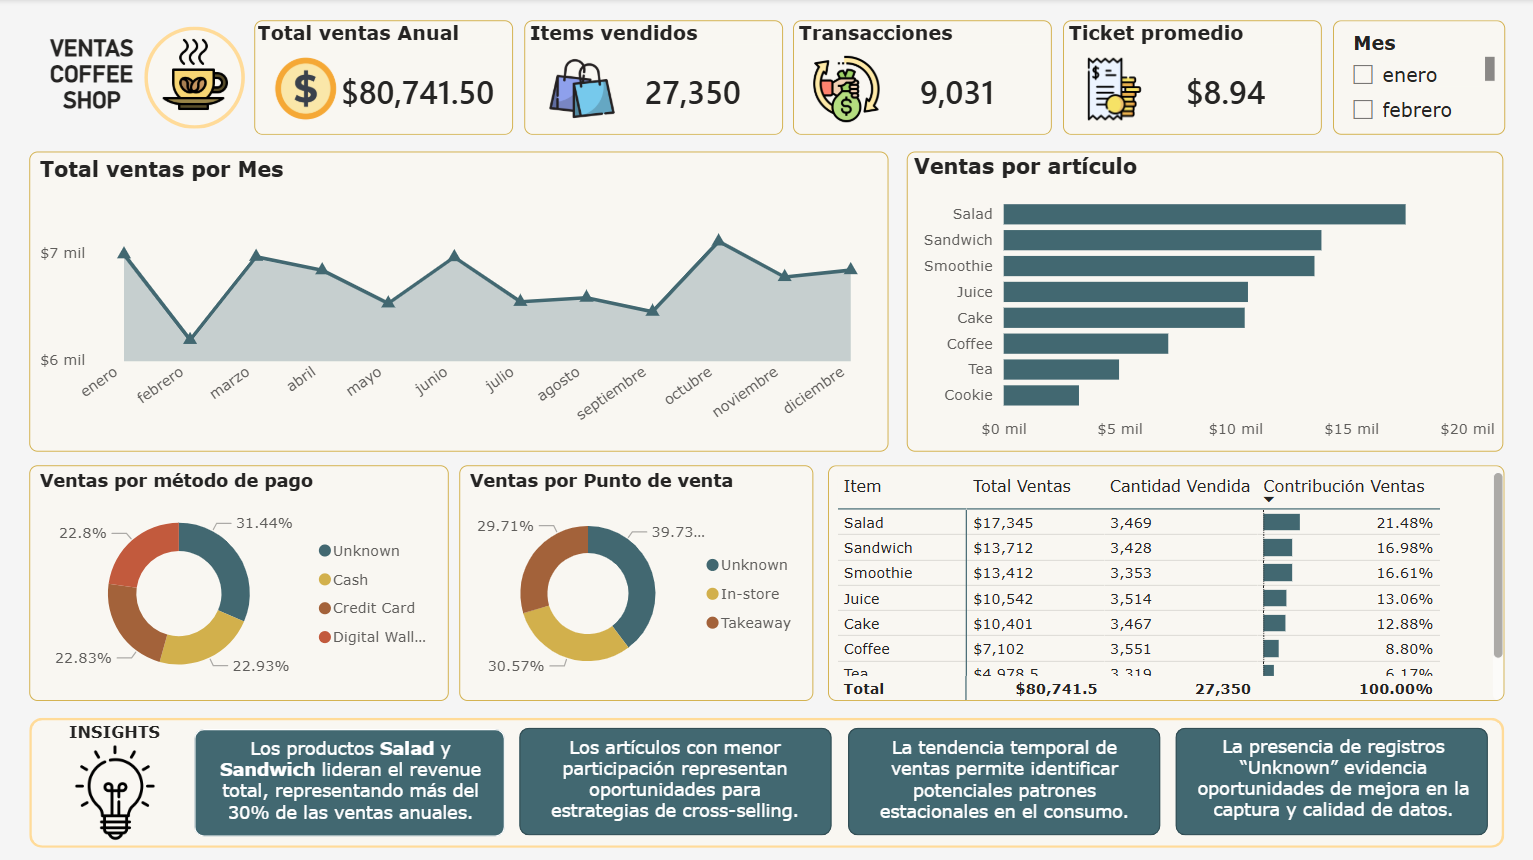

This screenshot's page, from the dashboard's own definition file:
{"tool":"powerbi","page":{"name":"Página 1","canvas":[1280,720],"ordinal":0},"visuals":[{"type":"shape","box":[26,597.3,1226.3,108.2],"z":0},{"type":"donutChart","title":"Ventas por método de pago","fields":{"Y":["DAX.Total ventas"],"Category":["dirty_cafe_sales.Payment Method"]},"box":[26,388.1,349.1,196.2],"z":1000},{"type":"pivotTable","fields":{"Values":["DAX.Total ventas","DAX.Cantidaditems","DAX.ContribuciónVentas"],"Rows":["dirty_cafe_sales.Item"]},"box":[689.6,388.1,562.7,196.2],"z":2000},{"type":"donutChart","title":"Ventas por Punto de venta","fields":{"Category":["dirty_cafe_sales.Location"],"Y":["DAX.Total ventas"]},"box":[383.8,388.1,294.3,196.2],"z":3000},{"type":"areaChart","fields":{"Category":["Dim_Calendar DAX.Mes"],"Y":["DAX.Total ventas"]},"box":[26,127,714.2,249.6],"z":4000},{"type":"slicer","fields":{"Values":["Dim_Calendar DAX.Mes"]},"box":[1109.5,17.3,142.8,95.2],"z":5000},{"type":"clusteredBarChart","title":"Ventas por artículo","fields":{"Y":["DAX.Total ventas"],"Category":["dirty_cafe_sales.Item"]},"box":[756,127,496.3,249.6],"z":6000},{"type":"cardVisual","title":"Total ventas Anual","fields":{"Data":["DAX.Total ventas"]},"box":[213.5,17.3,215,95.2],"z":7000},{"type":"cardVisual","title":"Ticket promedio","fields":{"Data":["DAX.TicketPromedio"]},"box":[885.9,17.3,215,95.2],"z":8000},{"type":"cardVisual","title":"Items vendidos","fields":{"Data":["DAX.CantidadNoUnknown"]},"box":[437.2,17.3,215,95.2],"z":9000},{"type":"cardVisual","title":"Transacciones ","fields":{"Data":["DAX.Transacciones"]},"box":[660.8,17.3,215,95.2],"z":10000},{"type":"shape","box":[163,607.4,258.3,89.5],"z":11000},{"type":"textbox","box":[170.2,614.6,245.3,96.7],"z":12000},{"type":"shape","box":[706.5,606,259.7,89.5],"z":13000},{"type":"textbox","box":[711.9,597.3,249.6,105.3],"z":14000},{"type":"shape","box":[433.8,606,259.7,89.5],"z":15000},{"type":"textbox","box":[443.9,613.2,238.1,93.8],"z":16000},{"type":"shape","box":[979.2,606,259.7,89.5],"z":17000},{"type":"textbox","box":[987.9,611.7,243.8,93.8],"z":18000},{"type":"image","box":[39,618.9,118.3,80.8],"z":19000},{"type":"textbox","box":[33.2,600.2,127,23.1],"z":20000},{"type":"shape","box":[121.2,22.7,83.7,85.1],"z":20500},{"type":"image","box":[131.3,24.2,63.5,77.9],"z":21000},{"type":"textbox","box":[26.5,29.7,103.9,67.8],"z":23000}]}

Visuals, with their boxes in screenshot pixels (x1, y1, x2, y2), scaled from the page's 1280x720 canvas onto the 1533x860 screenshot:
shape: 31,713,1500,843
"Ventas por método de pago" donutChart: 31,464,449,698
pivotTable - DAX.Total ventas x DAX.Cantidaditems: 826,464,1500,698
"Ventas por Punto de venta" donutChart: 460,464,812,698
areaChart - Dim_Calendar DAX.Mes x DAX.Total ventas: 31,152,887,450
slicer - Dim_Calendar DAX.Mes: 1329,21,1500,134
"Ventas por artículo" clusteredBarChart: 905,152,1500,450
"Total ventas Anual" cardVisual: 256,21,513,134
"Ticket promedio" cardVisual: 1061,21,1318,134
"Items vendidos" cardVisual: 524,21,781,134
"Transacciones " cardVisual: 791,21,1049,134
shape: 195,726,505,832
textbox: 204,734,498,850
shape: 846,724,1157,831
textbox: 853,713,1152,839
shape: 520,724,831,831
textbox: 532,732,817,844
shape: 1173,724,1484,831
textbox: 1183,731,1475,843
image: 47,739,188,836
textbox: 40,717,192,744
shape: 145,27,245,129
image: 157,29,233,122
textbox: 32,35,156,116
